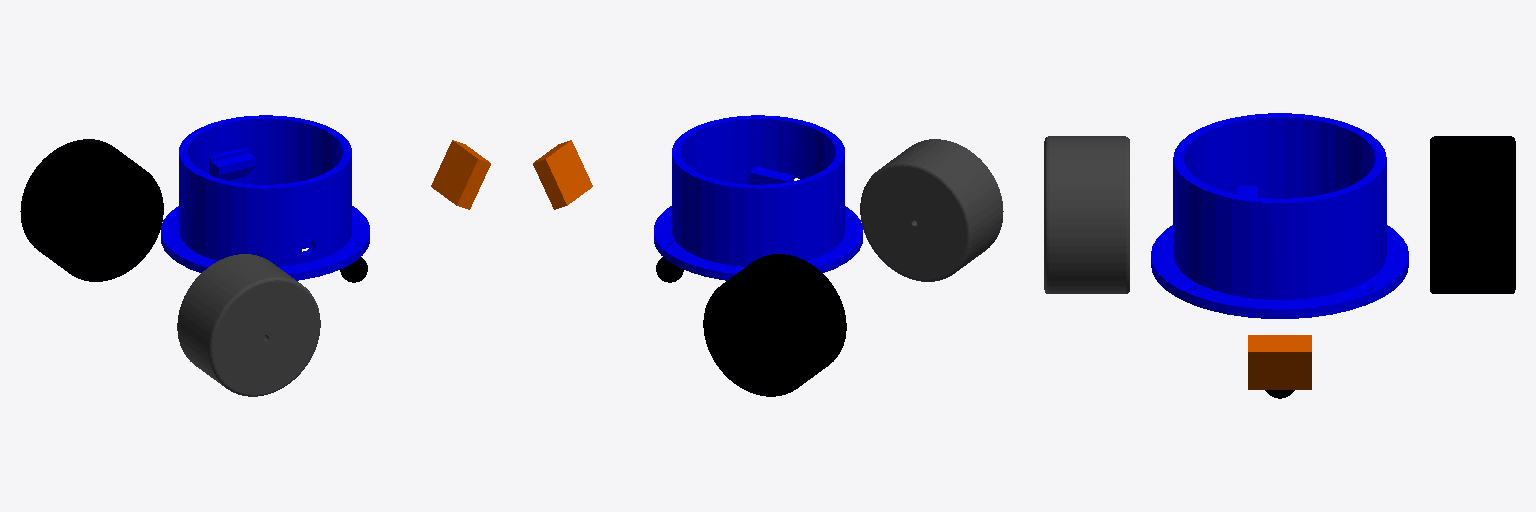
robot.urdf — alfr3:
<?xml version="1.0"?>
<robot name="alfr3">

  <!-- Dummy root link -->
  <link name="dummy_link"/>
  <joint name="base_fixed_joint" type="fixed">
    <parent link="dummy_link"/>
    <child link="base_link"/>
    <origin xyz="0 0 0" rpy="0 0 0"/>
  </joint>

  <!-- Base Link -->
  <link name="base_link">
    <inertial>
      <origin xyz="0 0 0" rpy="0 0 0"/>
      <mass value="0.11564"/>
      <inertia ixx="0.00012118" ixy="0" ixz="0" iyy="0.00029141" iyz="0" izz="0.0004083"/>
    </inertial>
    <visual>
      <geometry>
        <mesh filename="package://alfr3/meshes/base_link.STL"/>
      </geometry>
      <material name="Blue">
        <color rgba="0 0 1 1"/>
      </material>
    </visual>
    <collision>
      <geometry>
        <mesh filename="package://alfr3/meshes/base_link.STL"/>
      </geometry>
    </collision>
  </link>

  <!-- Left Wheel -->
  <link name="left_wheel">
    <inertial>
      <origin xyz="0 0 -0.02" rpy="0 0 0"/>
      <mass value="0.17114"/>
      <inertia ixx="8.1335e-05" ixy="0" ixz="0" iyy="8.1335e-05" iyz="0" izz="0.00011723"/>
    </inertial>
    <visual>
      <geometry>
        <mesh filename="package://alfr3/meshes/left_wheel.STL"/>
      </geometry>
      <material name="Black">
        <color rgba="0 0 0 1"/>
      </material>
    </visual>
    <collision>
      <geometry>
        <mesh filename="package://alfr3/meshes/left_wheel.STL"/>
      </geometry>
    </collision>
  </link>

  <joint name="left_wheel_joint" type="continuous">
    <parent link="base_link"/>
    <child link="left_wheel"/>
    <origin xyz="-0.06317 0.1103 -0.004" rpy="-1.5708 0 0"/>
    <axis xyz="0 0 1"/>
    <limit effort="10" velocity="10"/>
    <dynamics friction="0.1"/>
  </joint>

  <transmission name="left_wheel_trans">
    <type>transmission_interface/SimpleTransmission</type>
    <joint name="left_wheel_joint">
      <hardwareInterface>hardware_interface/VelocityJointInterface</hardwareInterface>
    </joint>
    <actuator name="left_wheel_motor">
      <hardwareInterface>hardware_interface/VelocityJointInterface</hardwareInterface>
      <mechanicalReduction>1</mechanicalReduction>
    </actuator>
  </transmission>

  <!-- Right Wheel -->
  <link name="right_wheel">
    <inertial>
      <origin xyz="0 0 0.02" rpy="0 0 0"/>
      <mass value="0.17114"/>
      <inertia ixx="8.1335e-05" ixy="0" ixz="0" iyy="8.1335e-05" iyz="0" izz="0.00011723"/>
    </inertial>
    <visual>
      <geometry>
        <mesh filename="package://alfr3/meshes/right_wheel.STL"/>
      </geometry>
      <material name="Black">
        <color rgba="0.3 0.3 0.3 1"/>
      </material>
    </visual>
    <collision>
      <geometry>
        <mesh filename="package://alfr3/meshes/right_wheel.STL"/>
      </geometry>
    </collision>
  </link>

  <joint name="right_wheel_joint" type="continuous">
    <parent link="base_link"/>
    <child link="right_wheel"/>
    <origin xyz="-0.06317 -0.1103 -0.004" rpy="-1.5708 0 0"/>
    <axis xyz="0 0 1"/>
    <limit effort="10" velocity="10"/>
    <dynamics friction="0.1"/>
  </joint>

  <transmission name="right_wheel_trans">
    <type>transmission_interface/SimpleTransmission</type>
    <joint name="right_wheel_joint">
      <hardwareInterface>hardware_interface/VelocityJointInterface</hardwareInterface>
    </joint>
    <actuator name="right_wheel_motor">
      <hardwareInterface>hardware_interface/VelocityJointInterface</hardwareInterface>
      <mechanicalReduction>1</mechanicalReduction>
    </actuator>
  </transmission>

  <!-- Castor Wheel -->
  <link name="castor_wheel">
    <inertial>
      <origin xyz="0 0 0" rpy="0 0 0"/>
      <mass value="0.05"/>
      <inertia ixx="1e-4" ixy="0" ixz="0" iyy="1e-4" iyz="0" izz="1e-4"/>
    </inertial>
    <visual>
      <geometry>
        <mesh filename="package://alfr3/meshes/castor_wheel.STL"/>
      </geometry>
      <material name="Black">
        <color rgba="0 0 0 1"/>
      </material>
    </visual>
    <collision>
      <geometry>
        <mesh filename="package://alfr3/meshes/castor_wheel.STL"/>
      </geometry>
    </collision>
  </link>

  <joint name="castor_wheel_joint" type="continuous">
    <parent link="base_link"/>
    <child link="castor_wheel"/>
    <origin xyz="0.05883 0 -0.033" rpy="-1.5708 0 0"/>
    <axis xyz="0 0 1"/>
    <limit effort="10" velocity="10"/>
    <dynamics friction="0.1"/>
  </joint>

  <!-- Camera -->
  <link name="camera_link">
    <inertial>
      <mass value="1e-5"/>
      <inertia ixx="1e-6" ixy="0" ixz="0" iyy="1e-6" iyz="0" izz="1e-6"/>
    </inertial>
    <visual>
      <geometry>
        <box size="0.01 0.03 0.03"/>
      </geometry>
    </visual>
    <collision>
      <geometry>
        <box size="0.02 0.05 0.05"/>
      </geometry>
    </collision>
  </link>

  <joint name="camera_joint" type="fixed">
    <parent link="base_link"/>
    <child link="camera_link"/>
    <origin xyz="0.13 0 0.01" rpy="0 0.5 0"/>
  </joint>

  <!-- Gazebo Camera Sensor -->
  <gazebo reference="camera_link">
    <sensor name="front_camera" type="camera">
      <always_on>true</always_on>
      <update_rate>30</update_rate>
      <camera>
        <horizontal_fov>1.047</horizontal_fov>
        <image>
          <width>640</width>
          <height>480</height>
          <format>R8G8B8</format>
        </image>
        <clip>
          <near>0.1</near>
          <far>200</far>
        </clip>
      </camera>
      <plugin name="camera_controller" filename="libgazebo_ros_camera.so">
        <alwaysOn>true</alwaysOn>
        <updateRate>30</updateRate>
        <cameraName>front_camera</cameraName>
        <imageTopicName>image_raw</imageTopicName>
        <cameraInfoTopicName>camera_info</cameraInfoTopicName>
        <frameName>camera_link</frameName>
      </plugin>
    </sensor>
  </gazebo>

  <!-- Gazebo ros_control plugin -->
  <gazebo>
    <plugin name="gazebo_ros_control" filename="libgazebo_ros_control.so">
      <robotNamespace></robotNamespace>
      <legacyMode>false</legacyMode>
    </plugin>
  </gazebo>

</robot>

--- Render facts (derived) ---
The picture shows the robot from 3 angles, left to right: view 1: azimuth 30°, elevation 25°; view 2: azimuth 150°, elevation 25°; view 3: azimuth 270°, elevation 25°; orthographic projection.
Model alfr3 with 6 links and 5 joints (3 continuous, 2 fixed), rooted at dummy_link, posed all joints at 0.
Visible links, largest first — view 1: base_link, left_wheel, right_wheel, camera_link; view 2: base_link, right_wheel, left_wheel, camera_link; view 3: base_link, left_wheel, right_wheel, camera_link.
Boxes of the visible links, <box> form: base_link: <box>161,115,369,280</box>; left_wheel: <box>20,139,163,281</box>; right_wheel: <box>177,254,320,396</box>; camera_link: <box>431,140,490,209</box>; base_link: <box>654,115,862,280</box>; right_wheel: <box>860,139,1003,281</box>; left_wheel: <box>703,254,846,396</box>; camera_link: <box>533,140,592,209</box>; base_link: <box>1151,113,1408,318</box>; left_wheel: <box>1430,136,1515,293</box>; right_wheel: <box>1044,136,1129,293</box>; camera_link: <box>1248,335,1311,389</box>.
Size in the robot's own frame: 0.2417 by 0.2206 by 0.096 metres.
Meshes: 4 distinct files referenced, 4 mesh visuals loaded (4 binary STL).
